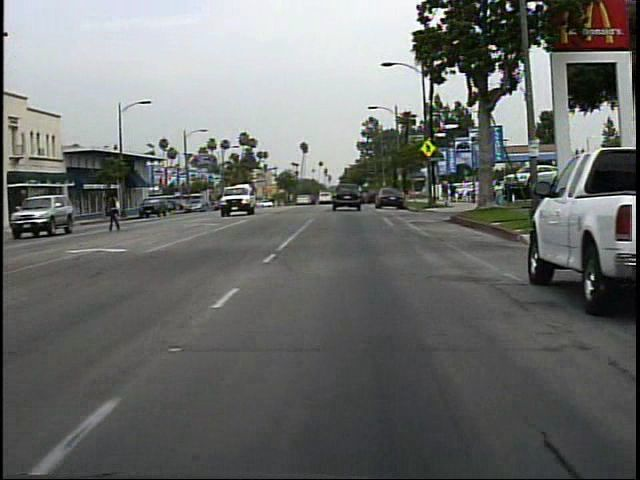person: (106, 187, 129, 236), (491, 179, 506, 212)
